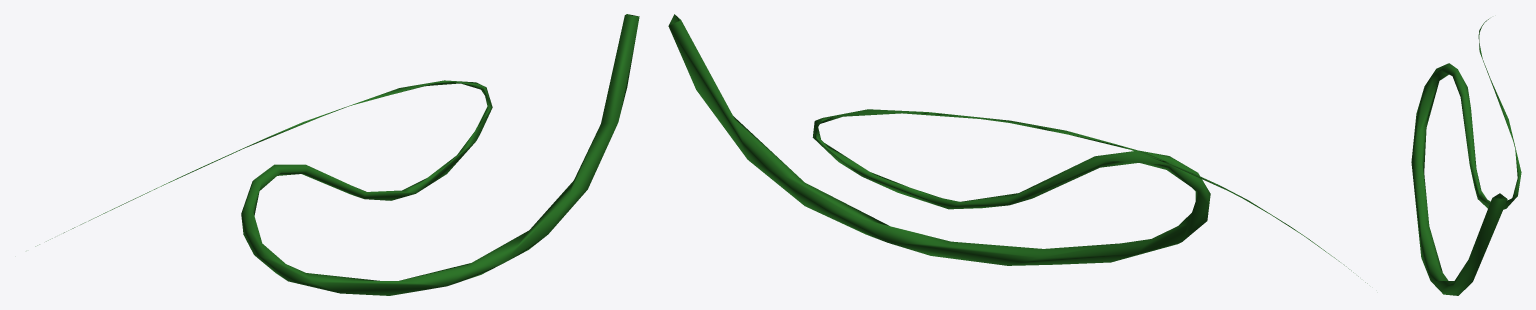
File: Vines01.fbx
The picture shows the model from 3 angles, left to right: view 1: azimuth 30°, elevation 25°; view 2: azimuth 150°, elevation 25°; view 3: azimuth 270°, elevation 25°; orthographic projection. The views are drawn at different scales.
Visible parts, largest first — view 1: Vine.007; view 2: Vine.007; view 3: Vine.007.
Part boxes in pixels (box(x1,y1,x2,y2)): Vine.007: box(35, 14, 639, 295); Vine.007: box(668, 14, 1367, 283); Vine.007: box(1411, 18, 1521, 295).
Bounding box in the file's own units: 1085 × 315 × 192.
